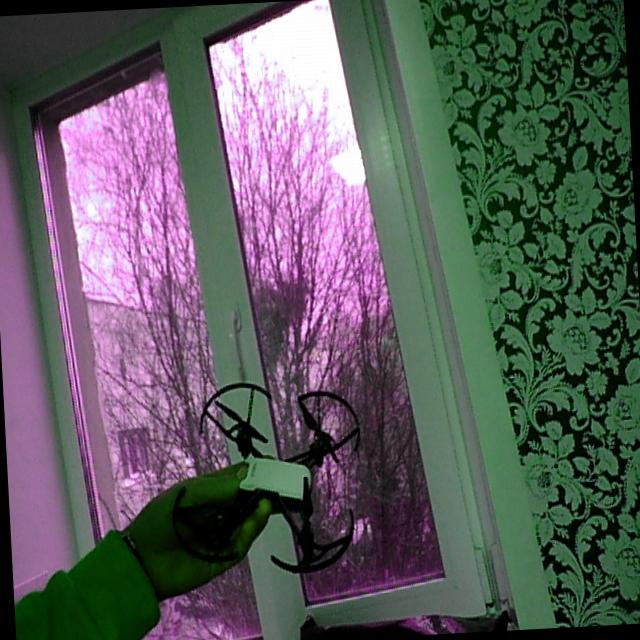drone: (166, 375, 374, 586)
